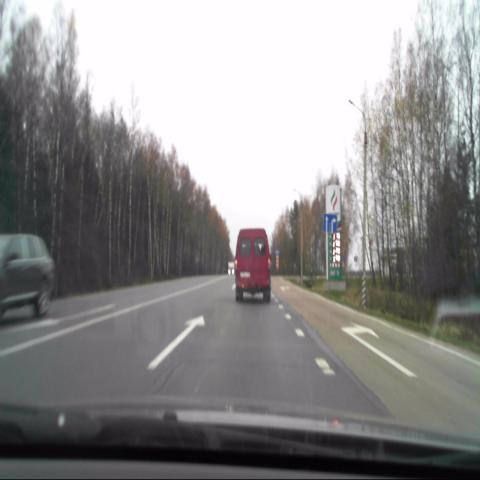5_15_2_2: (324, 213, 338, 231)
